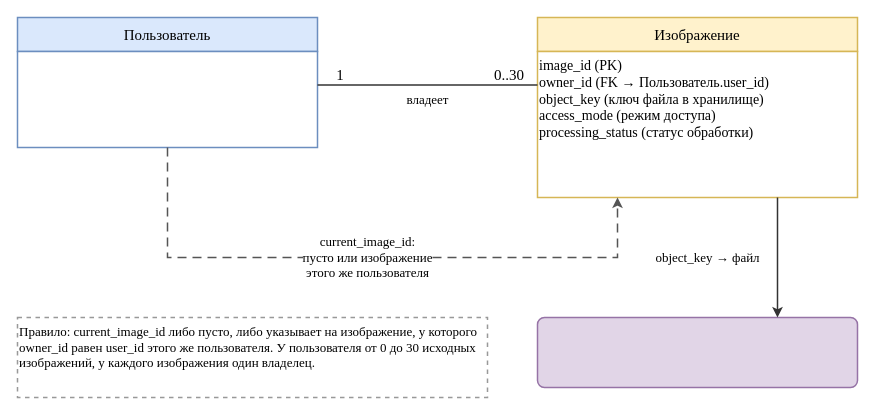
This 876x416 diagram has some shape labels left out. The shapes that lost their labels are listed below. From the top down, each one's box as (x1, y1, x2, y2) in pixels, then its label:
(16, 50, 318, 148): user_id (PK) current_image_id (FK, может быть пустым)
(536, 316, 858, 388): Файл изображения в объектном хранилище (сами данные файла)
